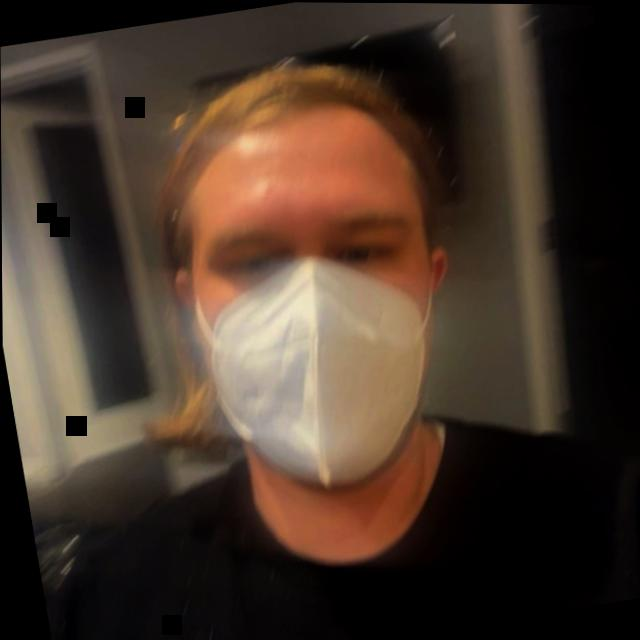Mask: (113, 8, 510, 559)
